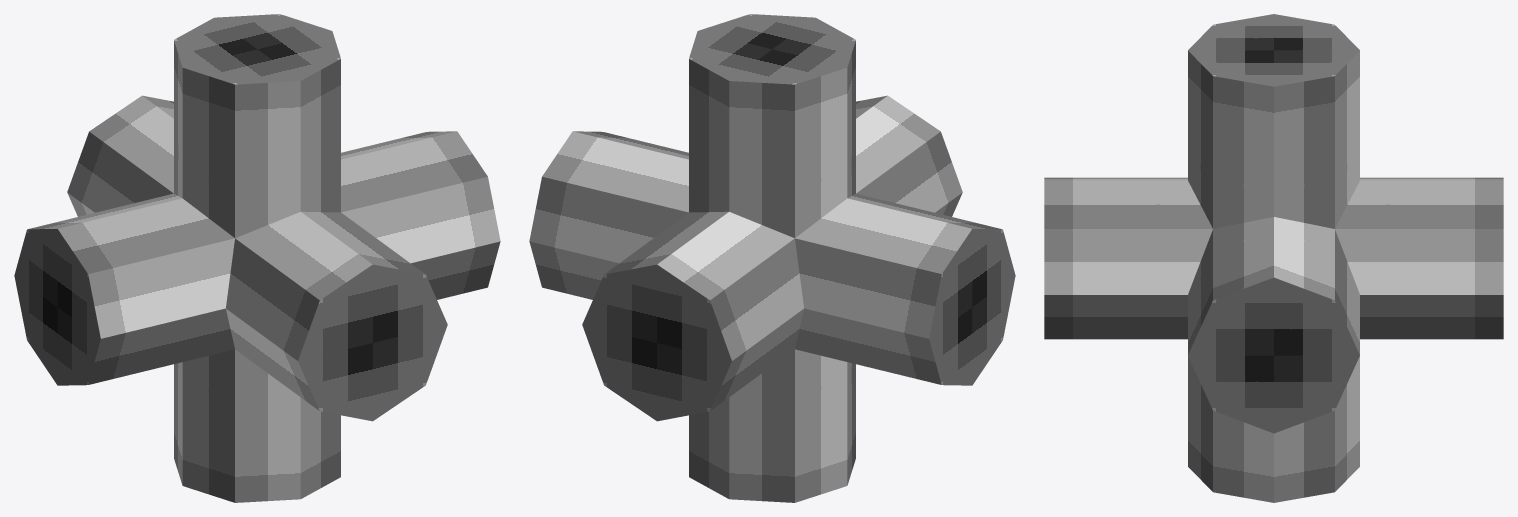
File: fracking_tower_ports.obj
The picture shows the model from 3 angles, left to right: view 1: azimuth 30°, elevation 25°; view 2: azimuth 150°, elevation 25°; view 3: azimuth 270°, elevation 25°; orthographic projection.
Parts seen in each view (by area): view 1: nZ, nX, pY, nY, pX, pZ; view 2: pZ, nX, pY, nY, pX, nZ; view 3: pY, pX, pZ, nZ, nY.
Part boxes in pixels (x1,y1,x2,y2): nZ: [226, 211, 447, 421]; nX: [14, 193, 234, 385]; pY: [174, 14, 340, 238]; nY: [174, 349, 340, 502]; pX: [341, 131, 500, 299]; pZ: [67, 95, 173, 216]; pZ: [582, 211, 803, 421]; nX: [795, 193, 1015, 385]; pY: [689, 14, 855, 238]; nY: [689, 349, 855, 502]; pX: [529, 131, 688, 299]; nZ: [856, 95, 962, 216]; pY: [1188, 14, 1359, 228]; pX: [1188, 217, 1359, 433]; pZ: [1335, 177, 1503, 339]; nZ: [1044, 177, 1212, 339]; nY: [1188, 356, 1359, 502].
Bounding box in the file's own units: 1 × 1 × 1.
